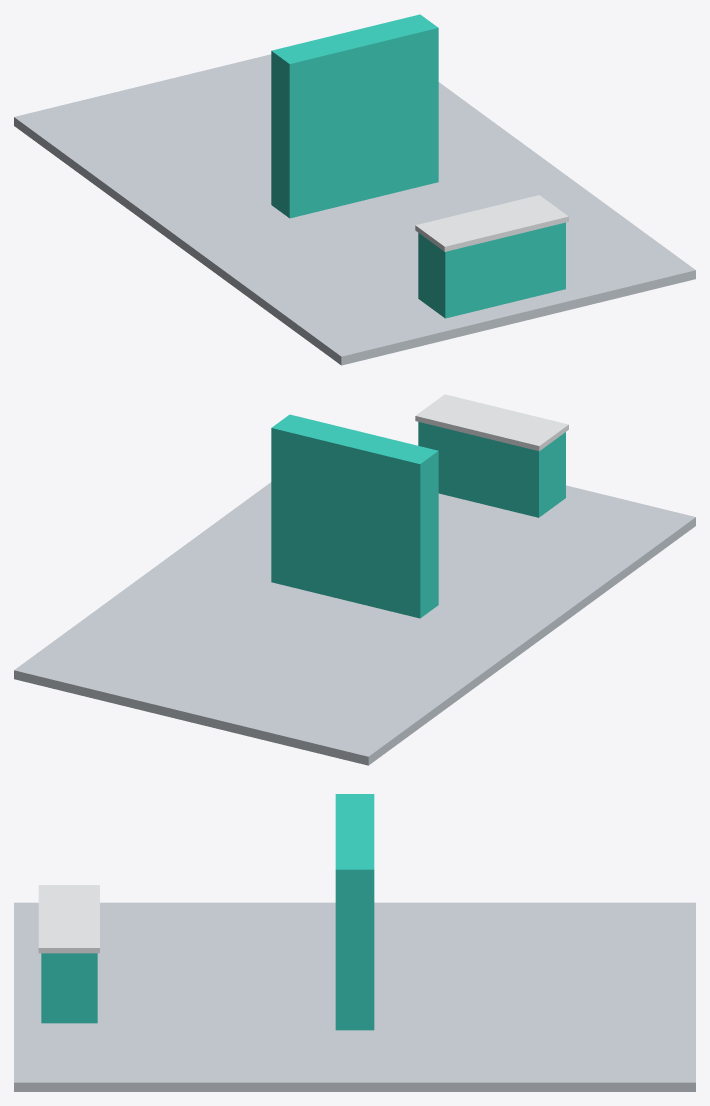
3 renders of one model, top to bottom at view 1: azimuth 30°, elevation 25°; view 2: azimuth 150°, elevation 25°; view 3: azimuth 270°, elevation 25°, orthographic. The views are drawn at different scales.
Parts seen in each view (by area): view 1: Exhibition Booth Concept; view 2: Exhibition Booth Concept; view 3: Exhibition Booth Concept.
Boxes of the visible parts, box(x1,y1,x2,y2) form: Exhibition Booth Concept: box(14, 14, 695, 365); Exhibition Booth Concept: box(14, 394, 695, 765); Exhibition Booth Concept: box(14, 794, 695, 1091).
Bounding box in the file's own units: 5 × 2.2 × 8.
